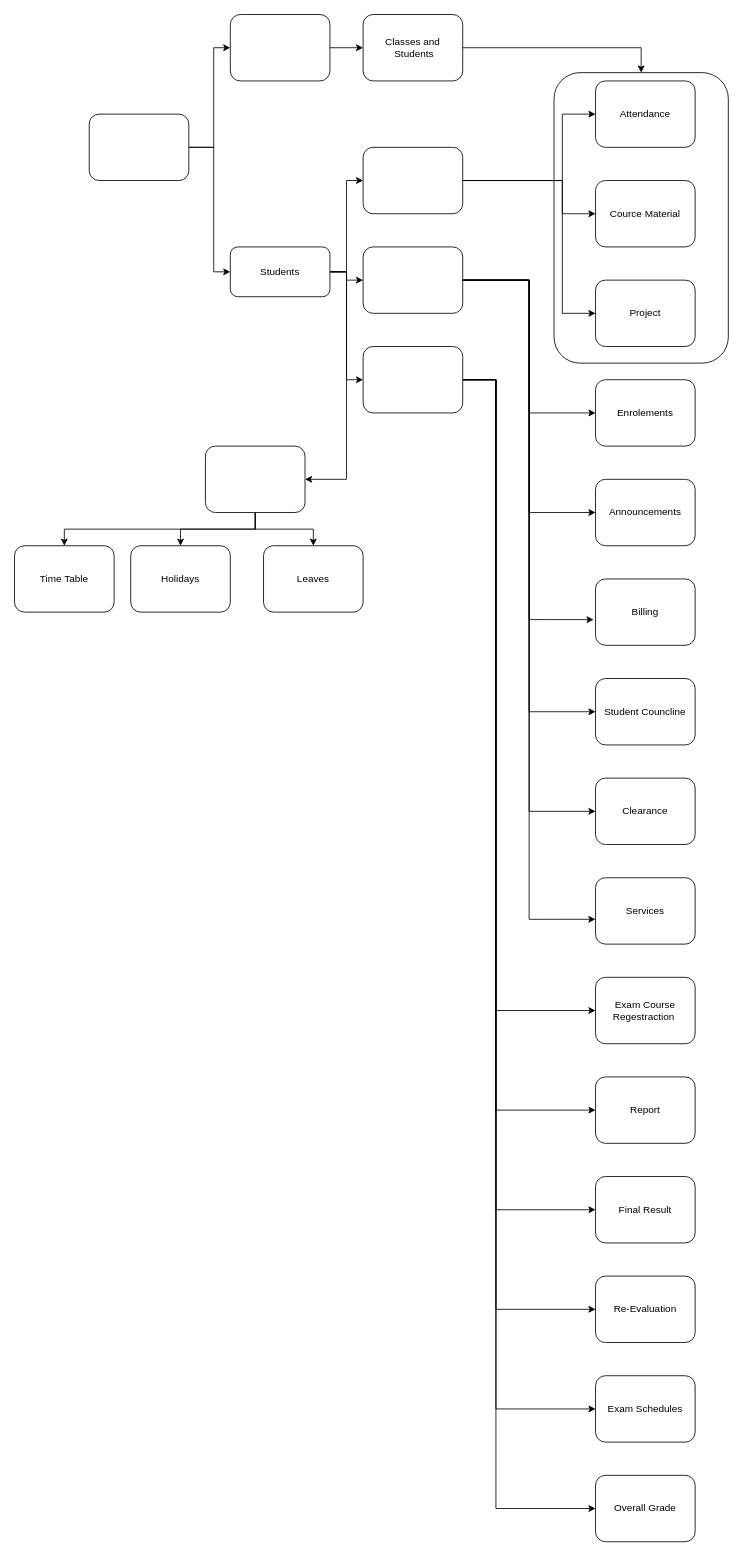
The diagram is 743 pixels wide and 1556 high, and some of its shapes have lost their labels. The shapes that lost their labels are listed below. From the top down, each one's box as (x1, y1, x2, y2) in pixels, then its label:
(229, 14, 330, 81): Professors
(88, 113, 189, 181): Authencation
(362, 146, 463, 214): Academic
(362, 246, 463, 313): Admin
(362, 346, 463, 413): Examination
(205, 445, 305, 513): Calendar
